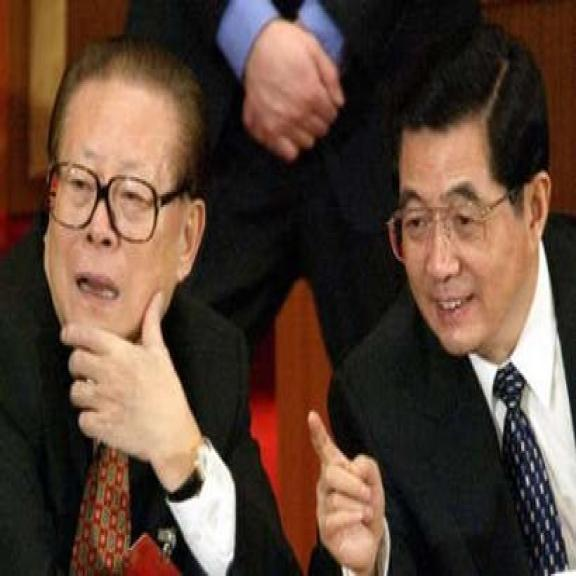face: (43, 62, 208, 350), (398, 118, 554, 361)
